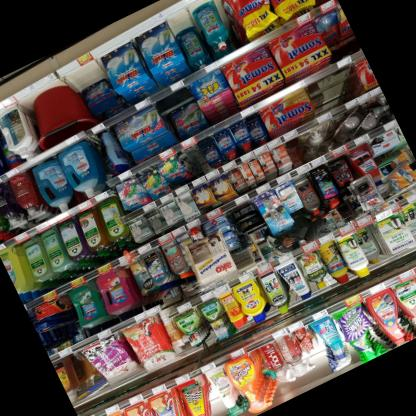empty_space: (305, 63, 367, 117), (178, 141, 210, 180)
